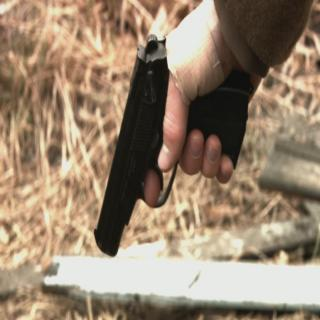gun: (92, 33, 255, 261)
